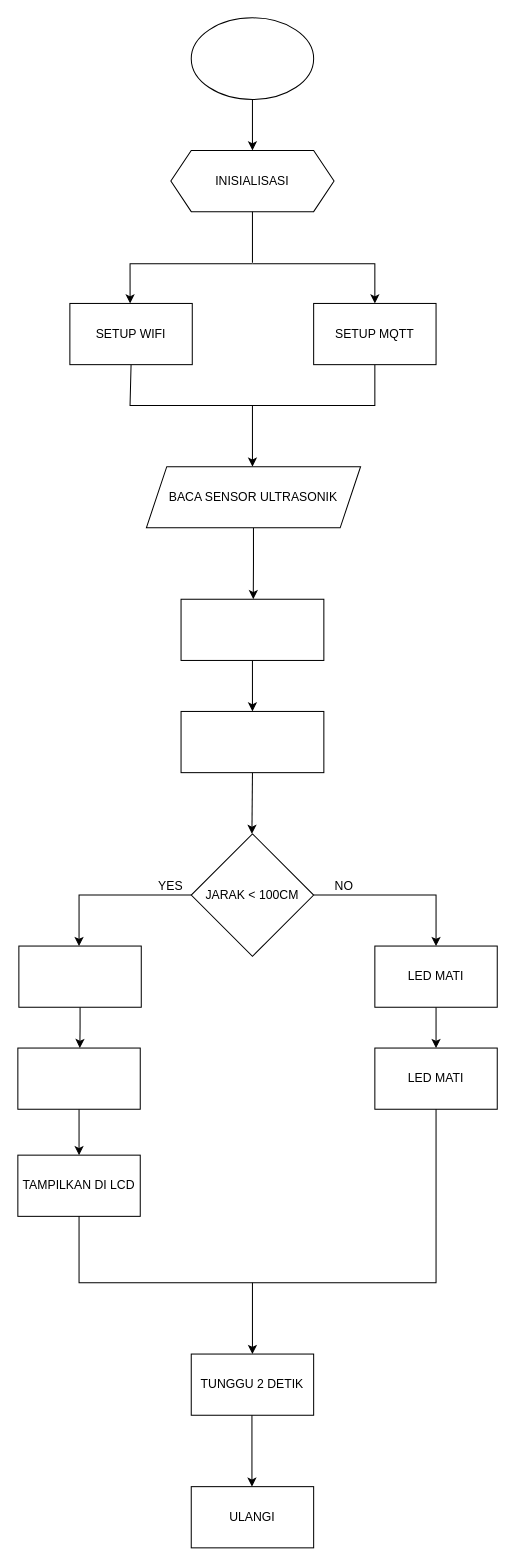
Image size: 515x1566. Some labels were removed from this diagram. The centre of each missing label's shape, as x and y in pixels:
"BUZZER NYALA" goes at point 78,1078.
"CETAK JARAK" goes at point 252,741.
"HITUNG JARAK" goes at point 252,629.
"LED NYALA" goes at point 79,976.
"START" goes at point 252,58.
